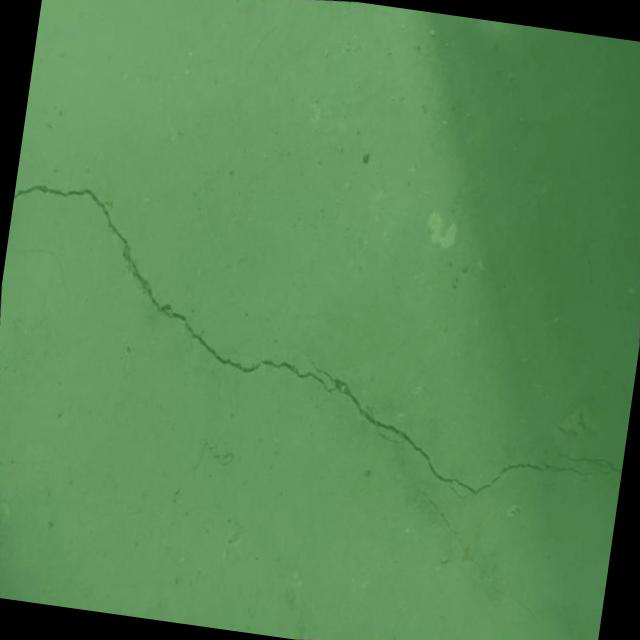crack: (0, 128, 640, 563), (390, 461, 596, 640), (602, 367, 636, 404)
